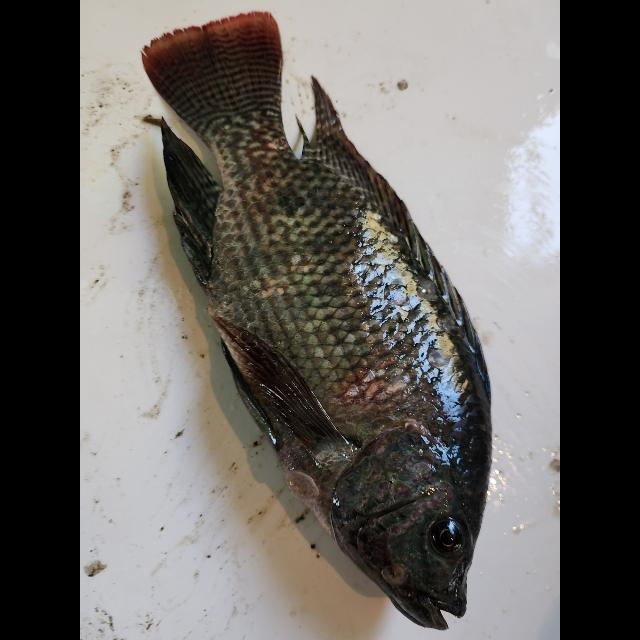Tilapia: (142, 9, 492, 630)
